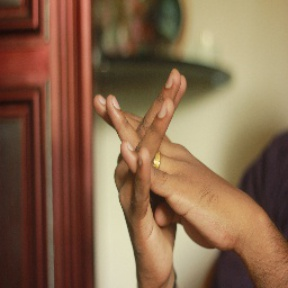W: (95, 58, 203, 226)
